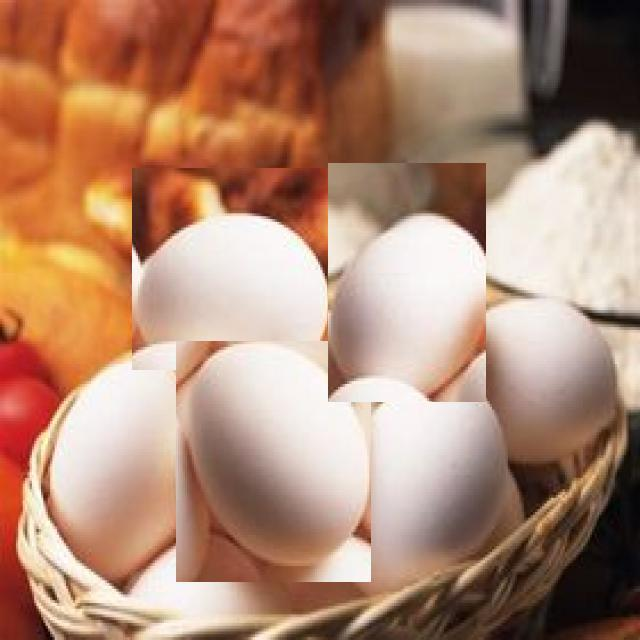Egg: (176, 341, 371, 582), (132, 168, 334, 370), (328, 163, 486, 402)
